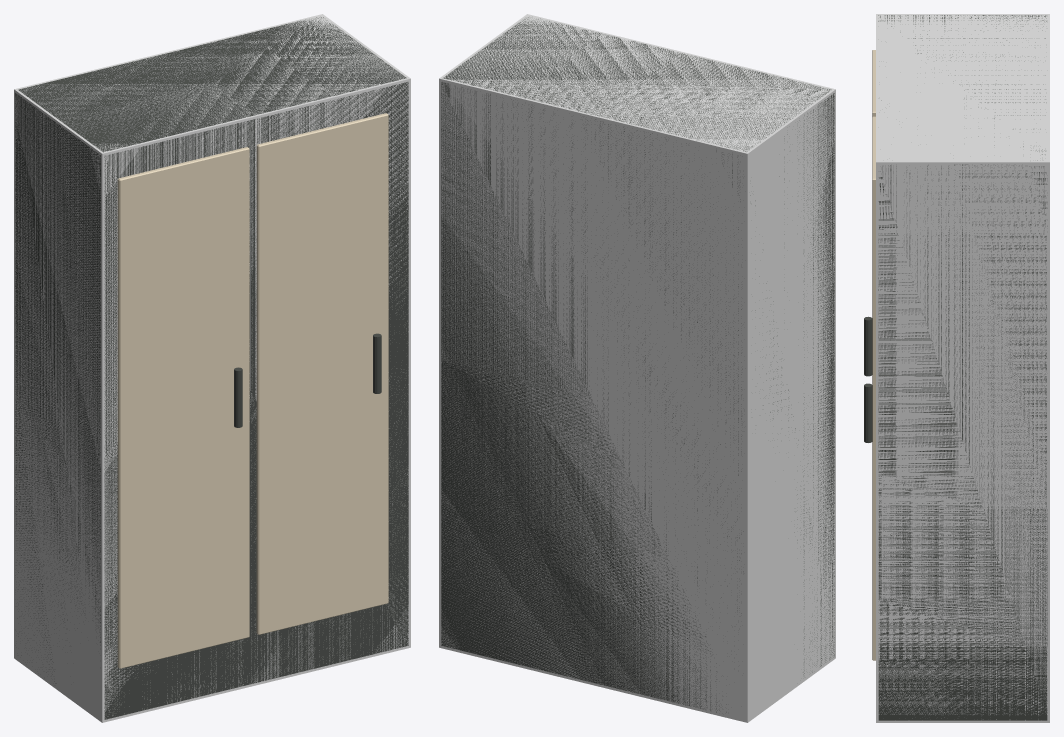
The model's file is storage-cabinet_basic.glb.
3 views of the same model, side by side, from view 1: azimuth 30°, elevation 25°; view 2: azimuth 150°, elevation 25°; view 3: azimuth 270°, elevation 25° (orthographic).
Visible parts, largest first — view 1: MESH_CabinetCarcass, COL_storage-cabinet, MESH_Door_01, MESH_Door_02; view 2: COL_storage-cabinet, MESH_CabinetCarcass; view 3: COL_storage-cabinet, MESH_CabinetCarcass, MESH_Door_02, MESH_Handle, MESH_Handle.001.
Boxes of the visible parts, x1,y1,x2,y2 form: MESH_CabinetCarcass: (15, 17, 408, 719); COL_storage-cabinet: (14, 14, 410, 722); MESH_Door_01: (117, 147, 249, 668); MESH_Door_02: (256, 113, 388, 634); COL_storage-cabinet: (439, 14, 835, 722); MESH_CabinetCarcass: (441, 17, 834, 712); COL_storage-cabinet: (876, 14, 1049, 722); MESH_CabinetCarcass: (878, 15, 1047, 720); MESH_Door_02: (872, 116, 875, 660); MESH_Handle: (864, 316, 872, 376); MESH_Handle.001: (864, 383, 872, 442).
Size of the model in its own units: 1.05 by 1.85 by 0.556.
